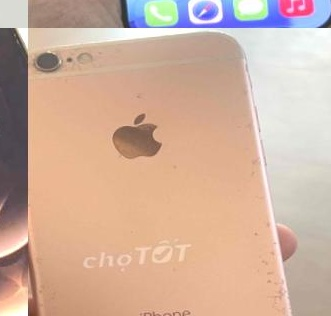physical_damage: (0, 28, 26, 49)
scratch: (228, 98, 315, 316), (28, 31, 129, 80), (28, 239, 66, 316)
